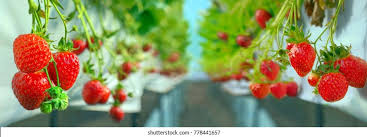ripe: (9, 68, 52, 111), (9, 33, 54, 74), (330, 46, 365, 91), (48, 48, 81, 91), (284, 37, 316, 76), (315, 70, 349, 105), (79, 79, 112, 106), (257, 56, 281, 83), (247, 78, 272, 99), (285, 77, 302, 100), (109, 102, 124, 126), (270, 80, 288, 99), (306, 68, 323, 88), (253, 15, 274, 31), (116, 59, 131, 81), (69, 36, 88, 53), (235, 33, 253, 49), (110, 86, 127, 102), (215, 31, 227, 38)
